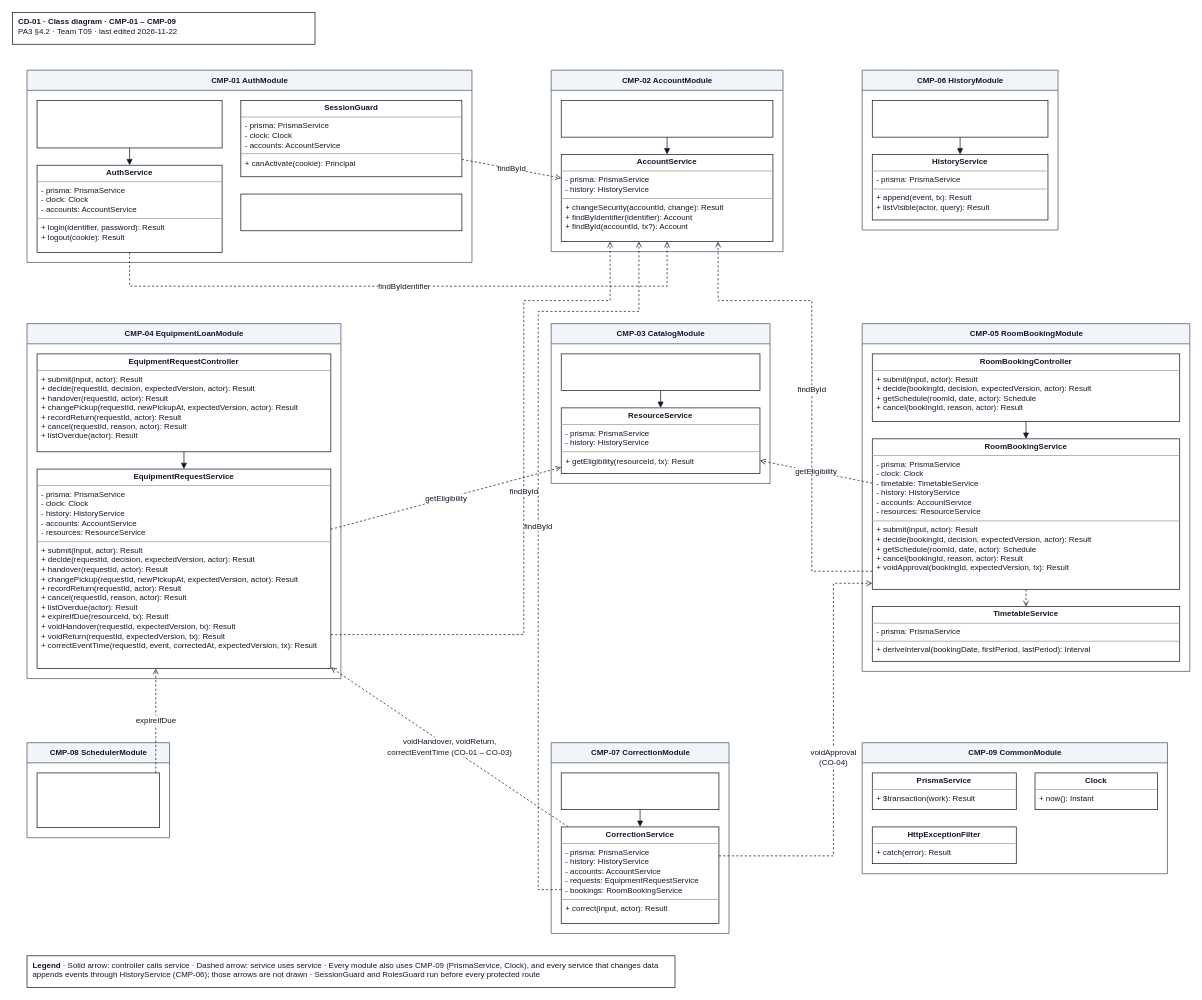
This 1202x1000 diagram has some shape labels left out. The centre of each missing label's shape, as x and y in pixels:
"AccountController + changeSecurity(accountId, change): Result" goes at (x=667, y=118).
"AuthController + login(identifier, password): Result + logout(cookie): Result" goes at (x=129, y=124).
"CorrectionController + correct(input, actor): Result" goes at (x=640, y=791).
"ExpiryJob - clock: Clock + run(): Result" goes at (x=97, y=800).
"HistoryController + listVisible(actor, query): Result" goes at (x=960, y=118).
"ResourceController + getEligibility(resourceId, tx): Result" goes at (x=660, y=372).
"RolesGuard + authorize(principal, allowedRoles): boolean" goes at (x=351, y=212).
